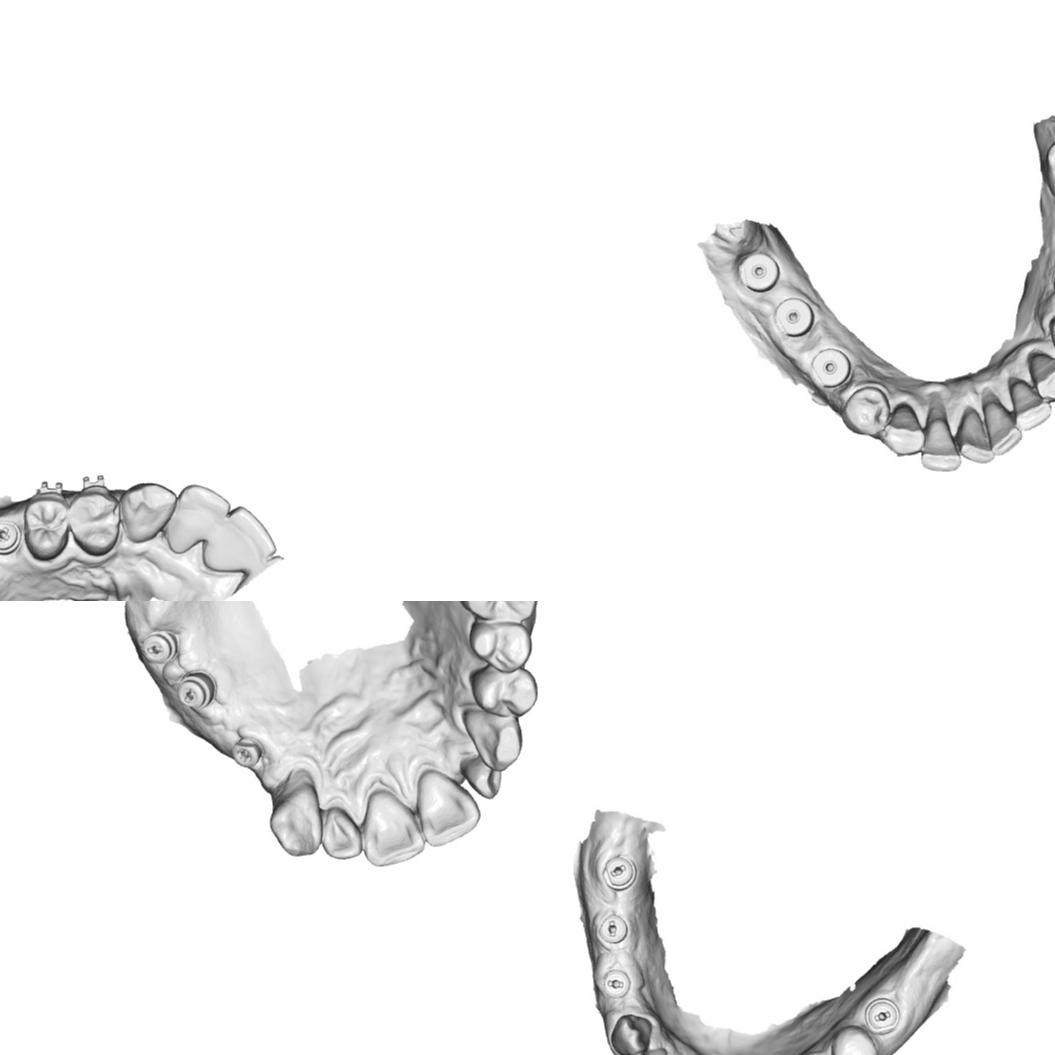canine: (268, 770, 322, 858), (462, 708, 527, 773), (119, 482, 178, 544), (880, 402, 927, 457), (609, 1012, 652, 1055), (1028, 347, 1055, 402)
implant: (736, 251, 782, 294), (772, 295, 816, 339), (807, 347, 853, 389)
implant_minus: (176, 670, 216, 710), (138, 630, 178, 666), (864, 996, 900, 1034), (601, 854, 637, 891), (596, 913, 630, 945), (600, 968, 630, 998)
implant_plus: (228, 736, 264, 770), (0, 517, 22, 557)
incisor: (415, 768, 483, 847), (360, 788, 426, 868), (201, 504, 277, 572), (165, 483, 231, 555), (920, 411, 963, 474), (982, 393, 1024, 457), (1007, 373, 1052, 432), (954, 404, 998, 464), (320, 805, 362, 860), (460, 755, 502, 800), (631, 1046, 669, 1055)
molar: (454, 601, 538, 621)
premolar: (68, 484, 122, 557), (469, 663, 538, 718), (468, 620, 533, 674), (22, 489, 70, 560), (841, 386, 892, 437), (829, 1024, 879, 1055)
